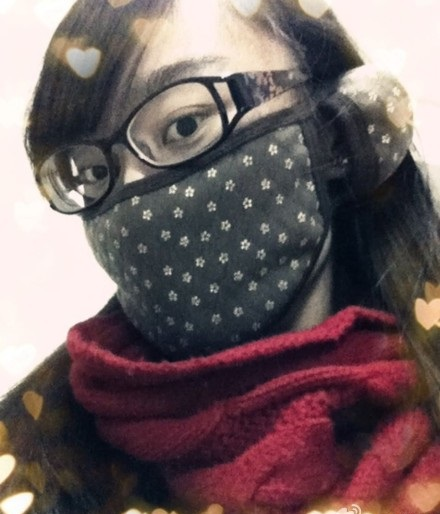face_mask: (63, 9, 283, 329)
